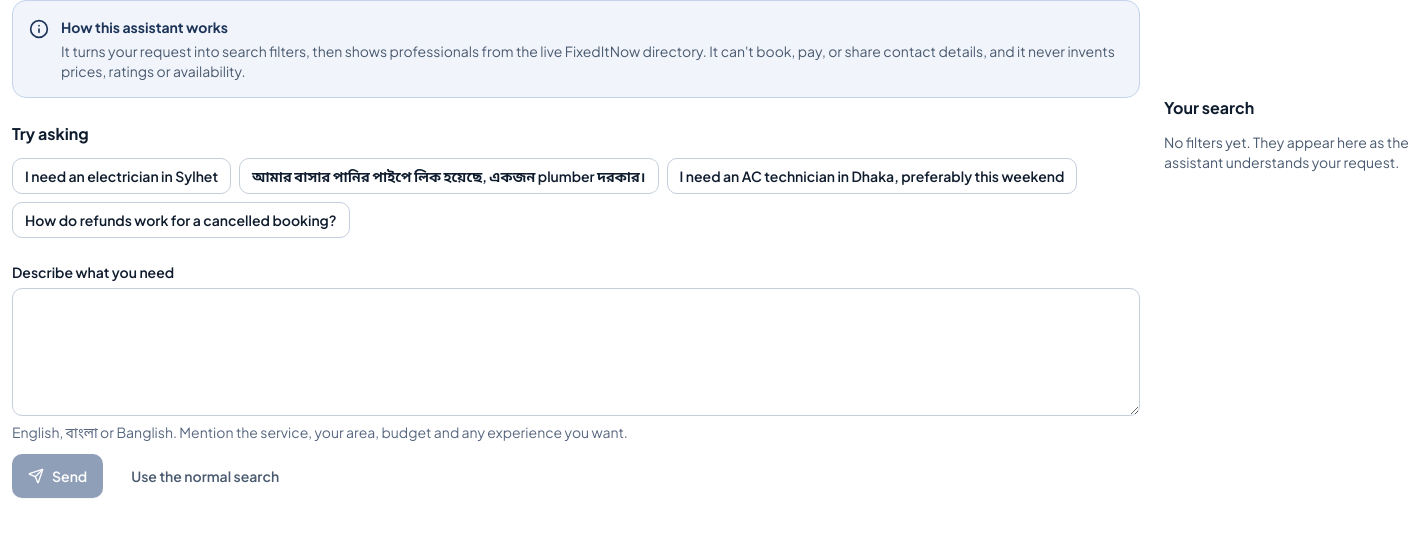
Scenario: assistant chat › renders model text as plain text, never as HTML
This screenshot has width=1425, height=540.
Type "x" into the text box labelled "Describe what you need".
click(576, 352); type("x")  # box x1=12 y1=288 x2=1140 y2=416
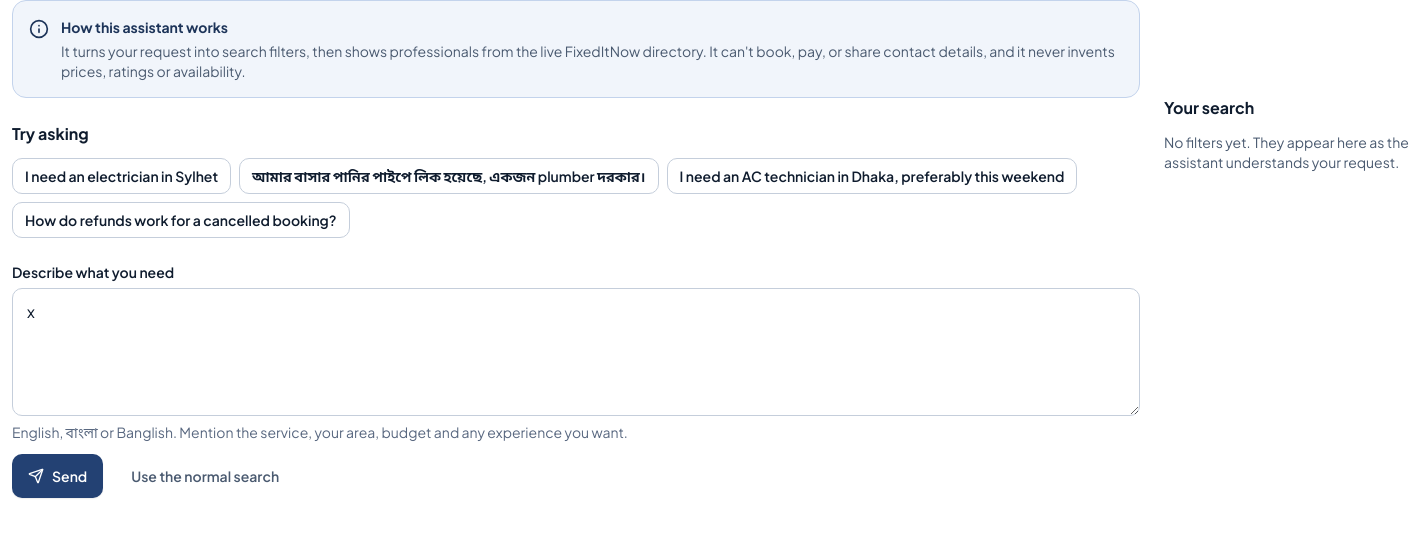
Click the button "Send".
click(58, 476)  # box x1=12 y1=454 x2=103 y2=498
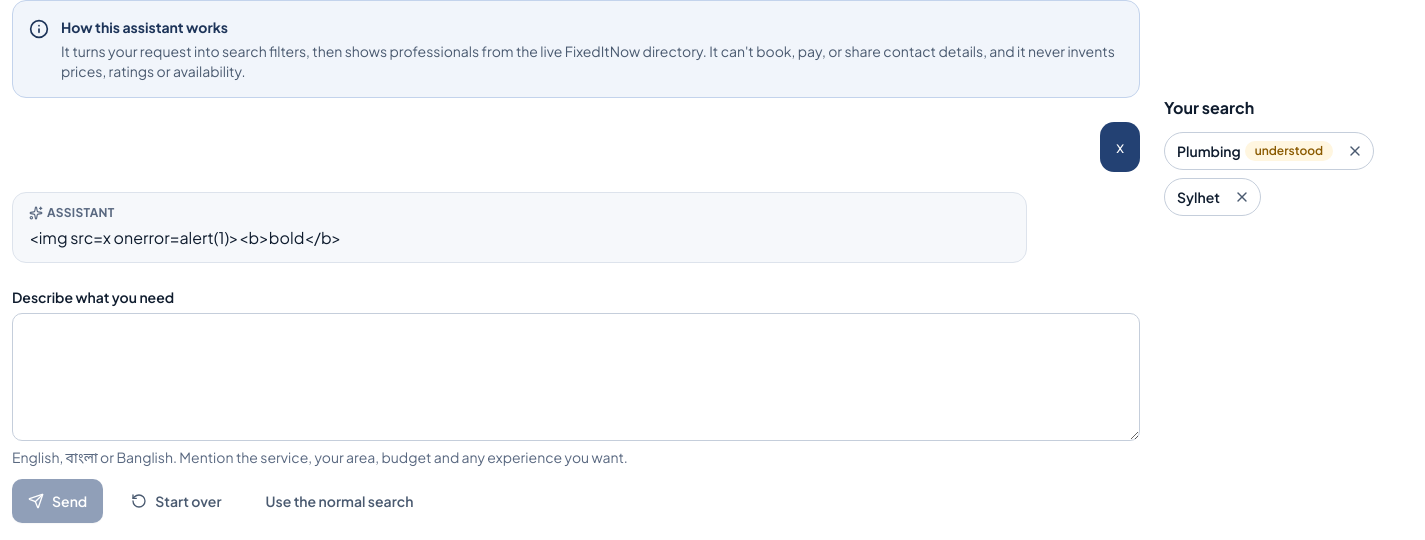
Check: the text "<img src=x onerror=alert(1)><b>bold</b>" is shown, box x1=29 y1=227 x2=341 y2=248
